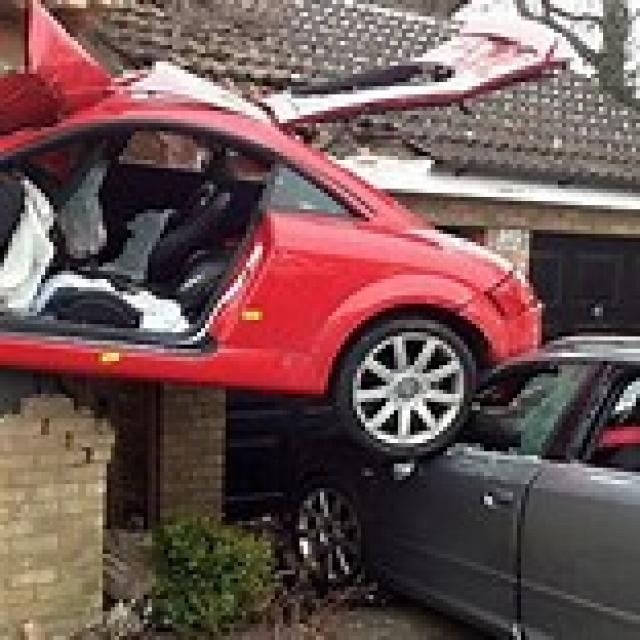Accident: (0, 35, 605, 532)
